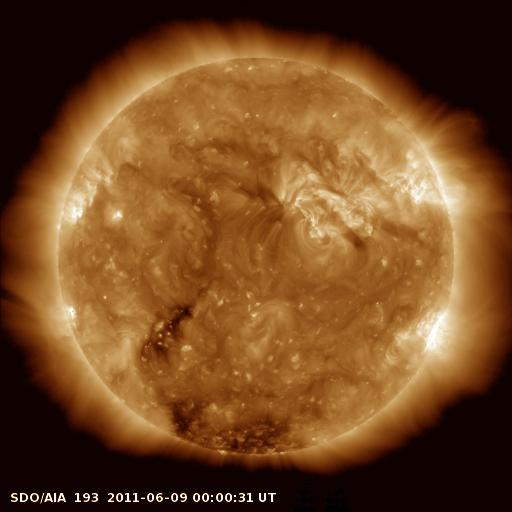coronal_hole: (155, 398, 302, 461), (139, 306, 191, 370)
